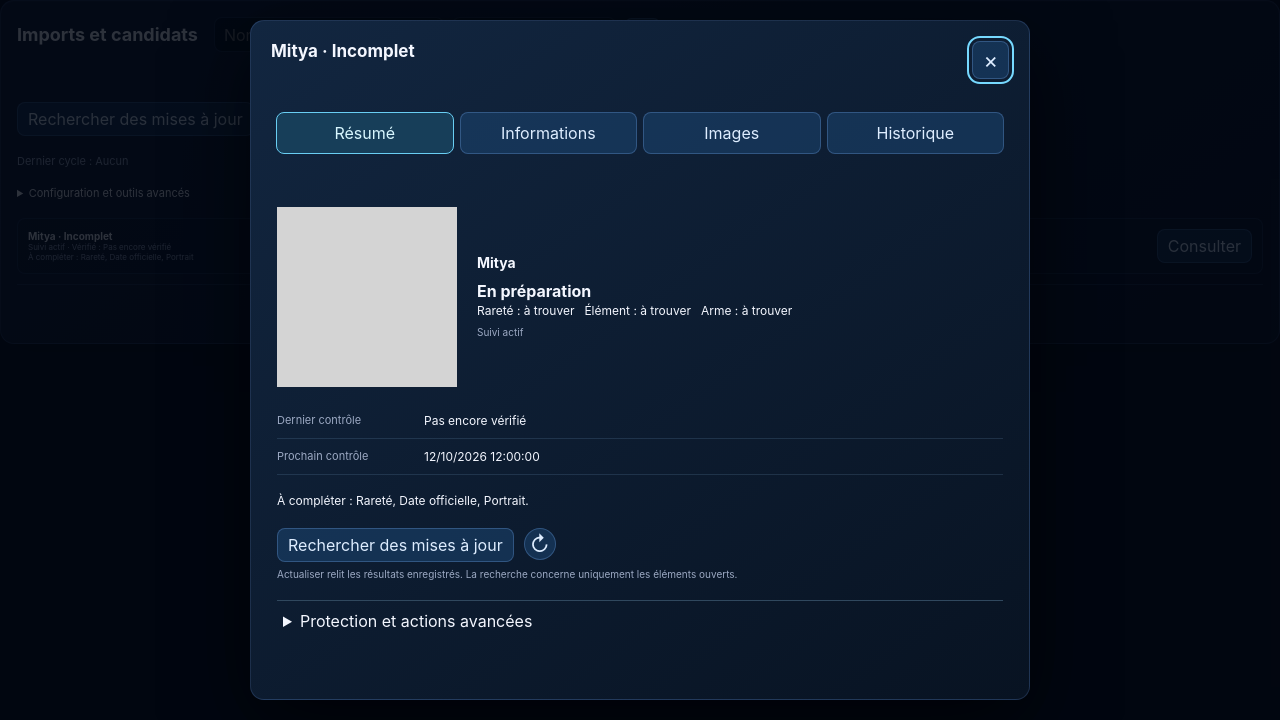
Test: Character import ADMIN surface › uses the existing Character icon and never substitutes a splash when no icon is available
Click the button "↻" at (540, 544), box [524,528,556,560]
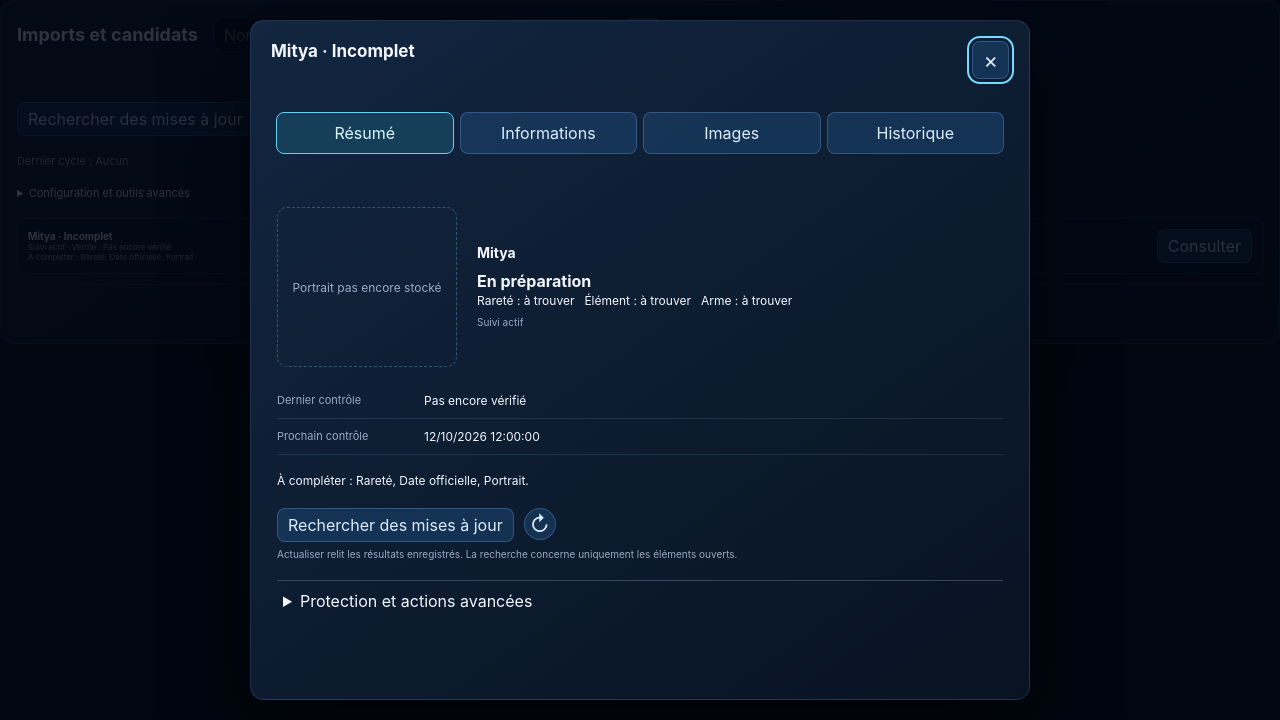
Check: the picture is gone
Check: the dialog shows "Portrait pas encore stocké", box [292,280,442,294]
